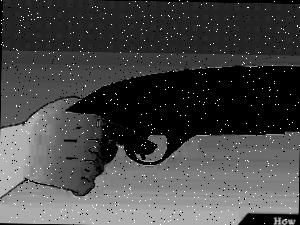shotgun: (25, 63, 300, 201)
